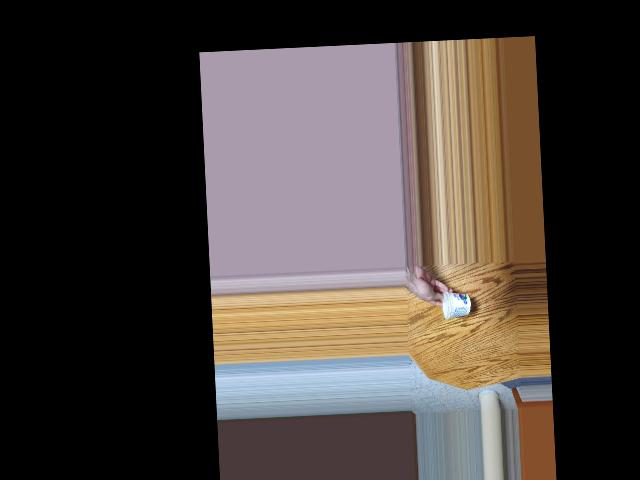cotage: (435, 287, 469, 324)
